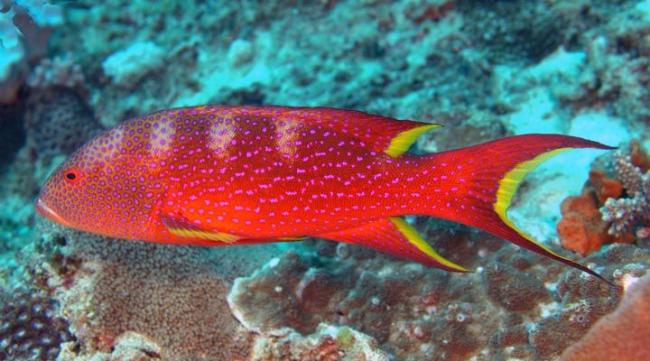fish: (35, 104, 619, 288)
